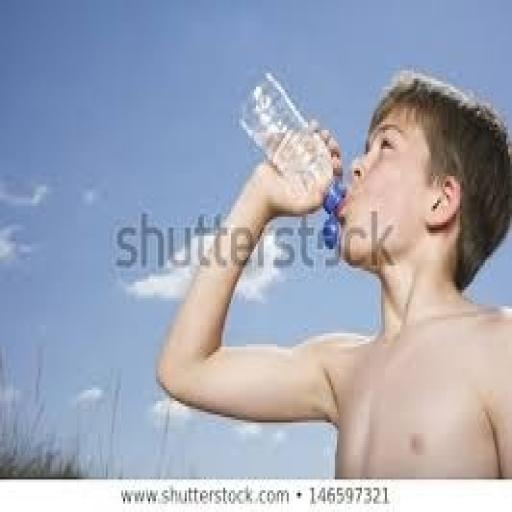drinking: (233, 65, 346, 249)
